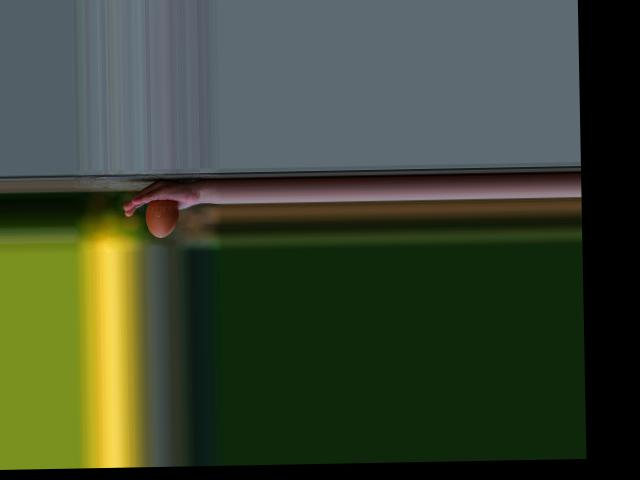egg: (146, 199, 180, 237)
